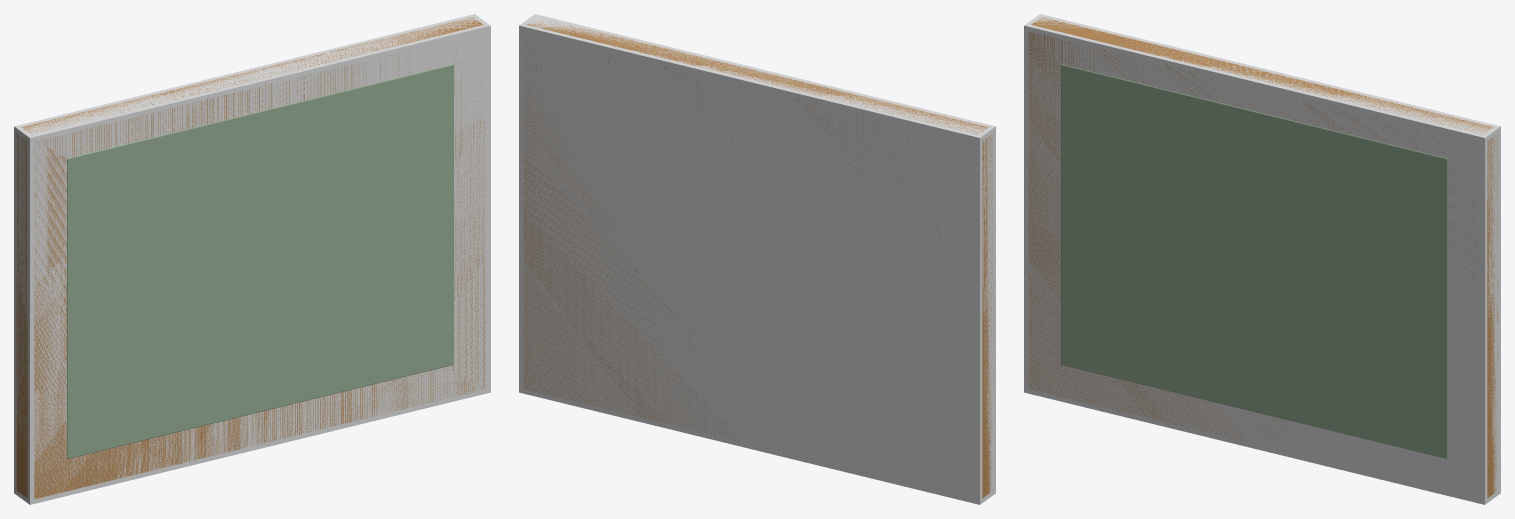
File: wall-art_retail.glb
3 views of the same model, side by side, from view 1: azimuth 30°, elevation 25°; view 2: azimuth 150°, elevation 25°; view 3: azimuth 330°, elevation 25° (orthographic).
Parts seen in each view (by area): view 1: MESH_Inset, COL_wall-art, MESH_Frame; view 2: COL_wall-art, MESH_Frame; view 3: MESH_Inset, COL_wall-art, MESH_Frame.
Boxes of the visible parts, <box> form: MESH_Inset: <box>67,64,453,458</box>; COL_wall-art: <box>14,14,490,504</box>; MESH_Frame: <box>16,17,486,498</box>; COL_wall-art: <box>519,14,995,504</box>; MESH_Frame: <box>523,19,993,498</box>; MESH_Inset: <box>1061,64,1447,458</box>; COL_wall-art: <box>1024,14,1500,504</box>; MESH_Frame: <box>1028,17,1498,498</box>.
Bounding box in the file's own units: 0.92 × 0.7 × 0.0561.
